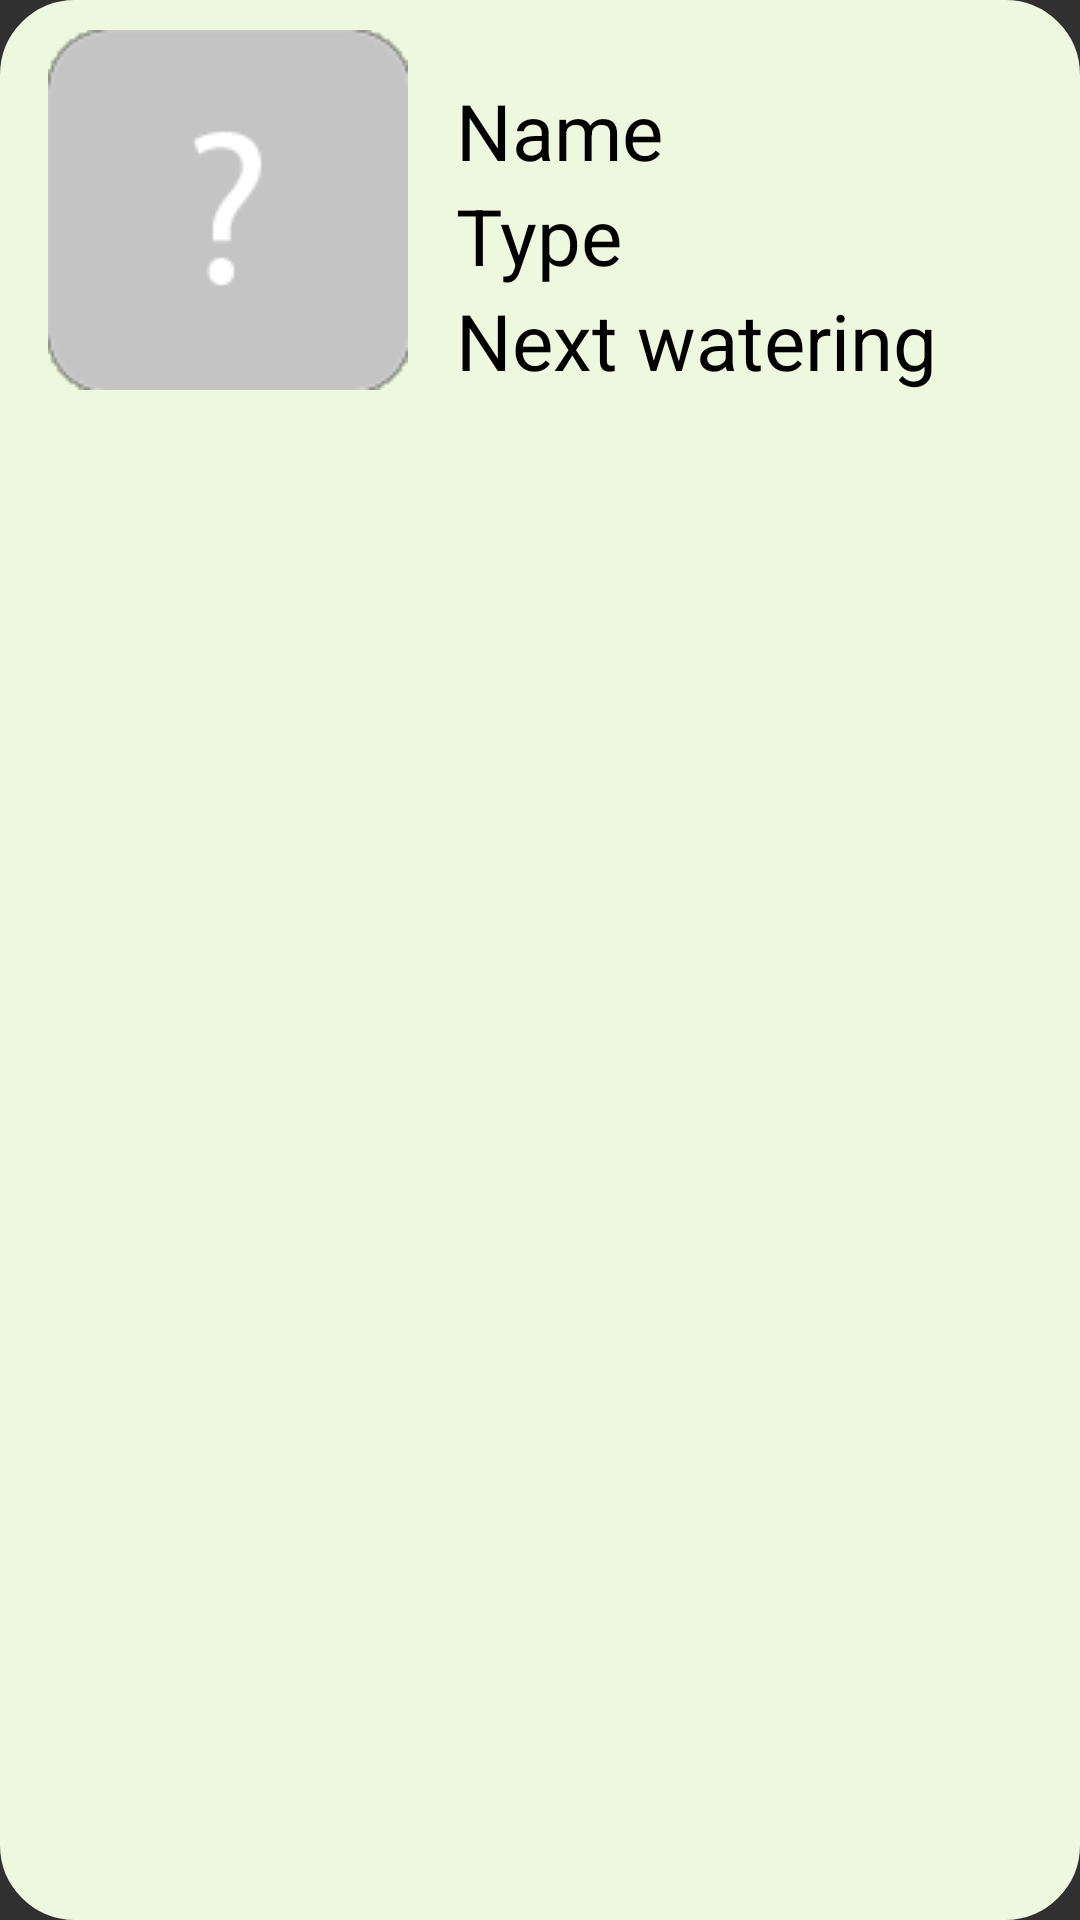

Icon click points for this 1080x1920 phone screenshot, format point (x, y):
def ava: point (228, 210)
